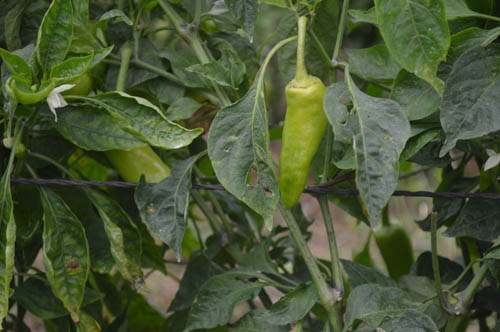ChiliPepper: (279, 80, 329, 206)
